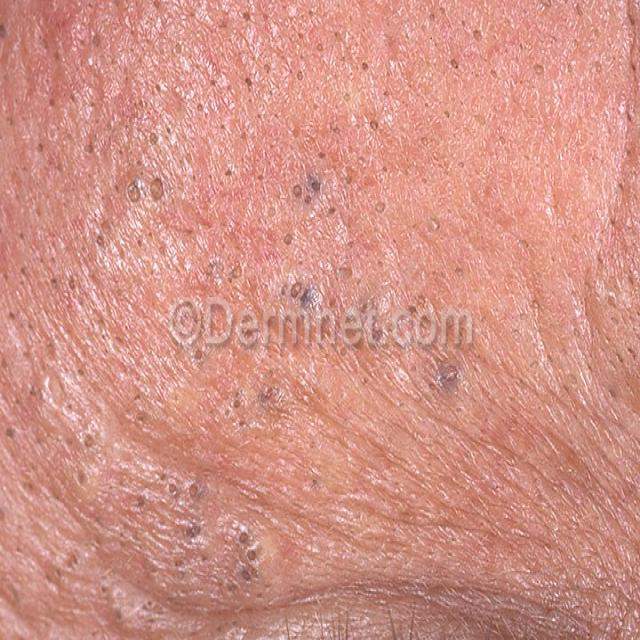Rosacea: (38, 162, 462, 607)
